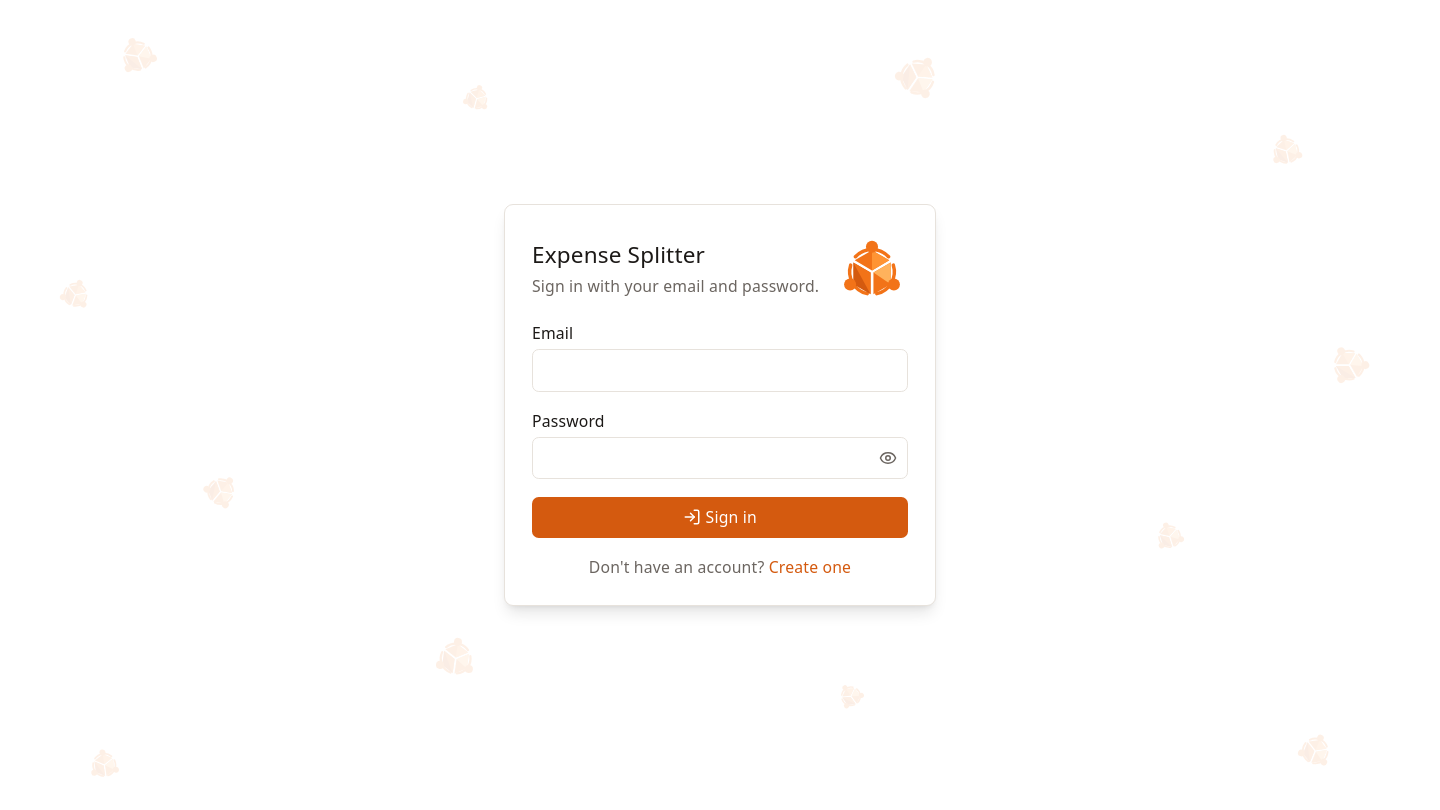
it: LoginPage › shows an error and does not log in when credentials are wrong
The width and height of the screenshot is (1440, 810).
Type "utkarsh@example.com" into the field labelled "Email" at (720, 370), box [532,349,908,392]
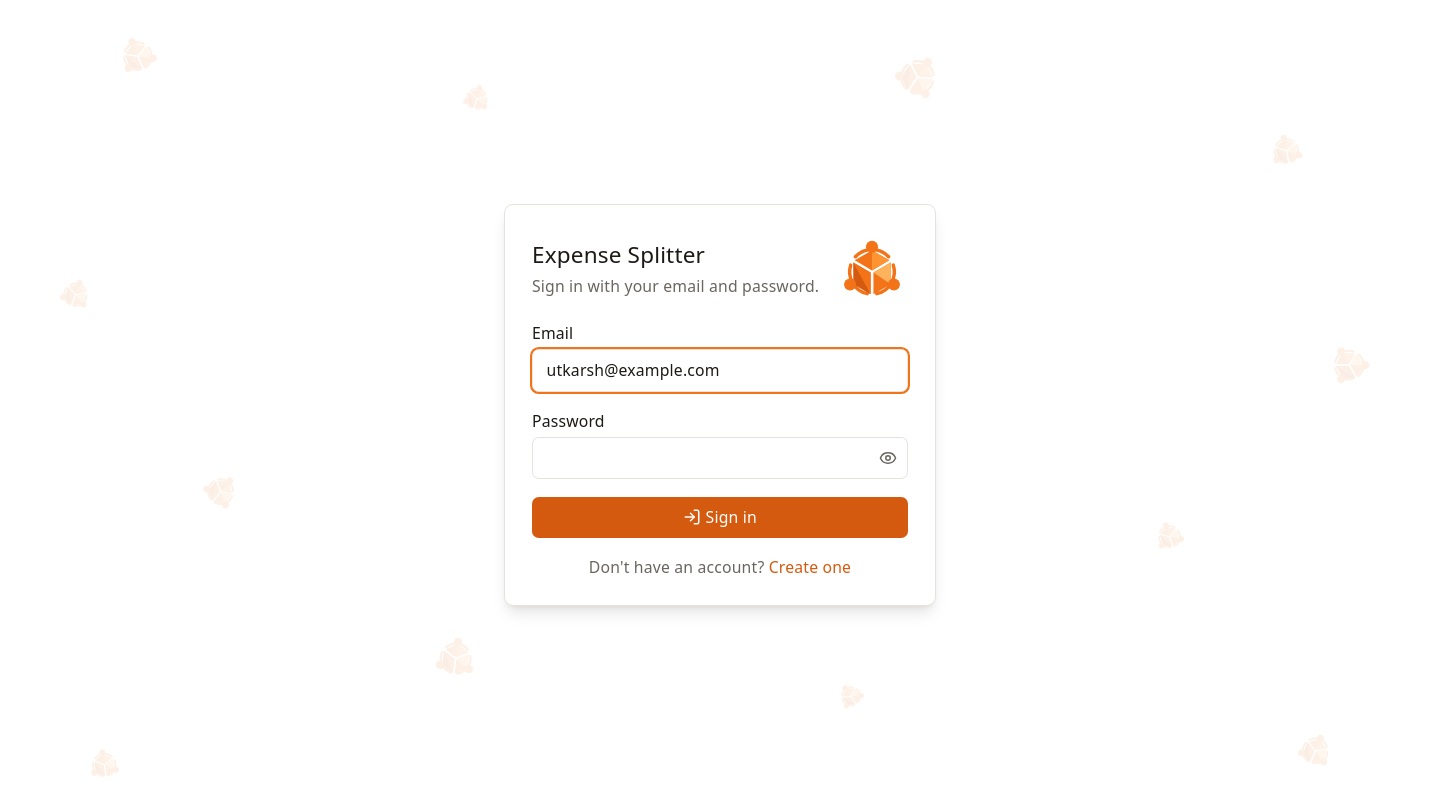
Type "wrong-password" into the password field labelled "Password" at (720, 458), box [532,436,908,479]
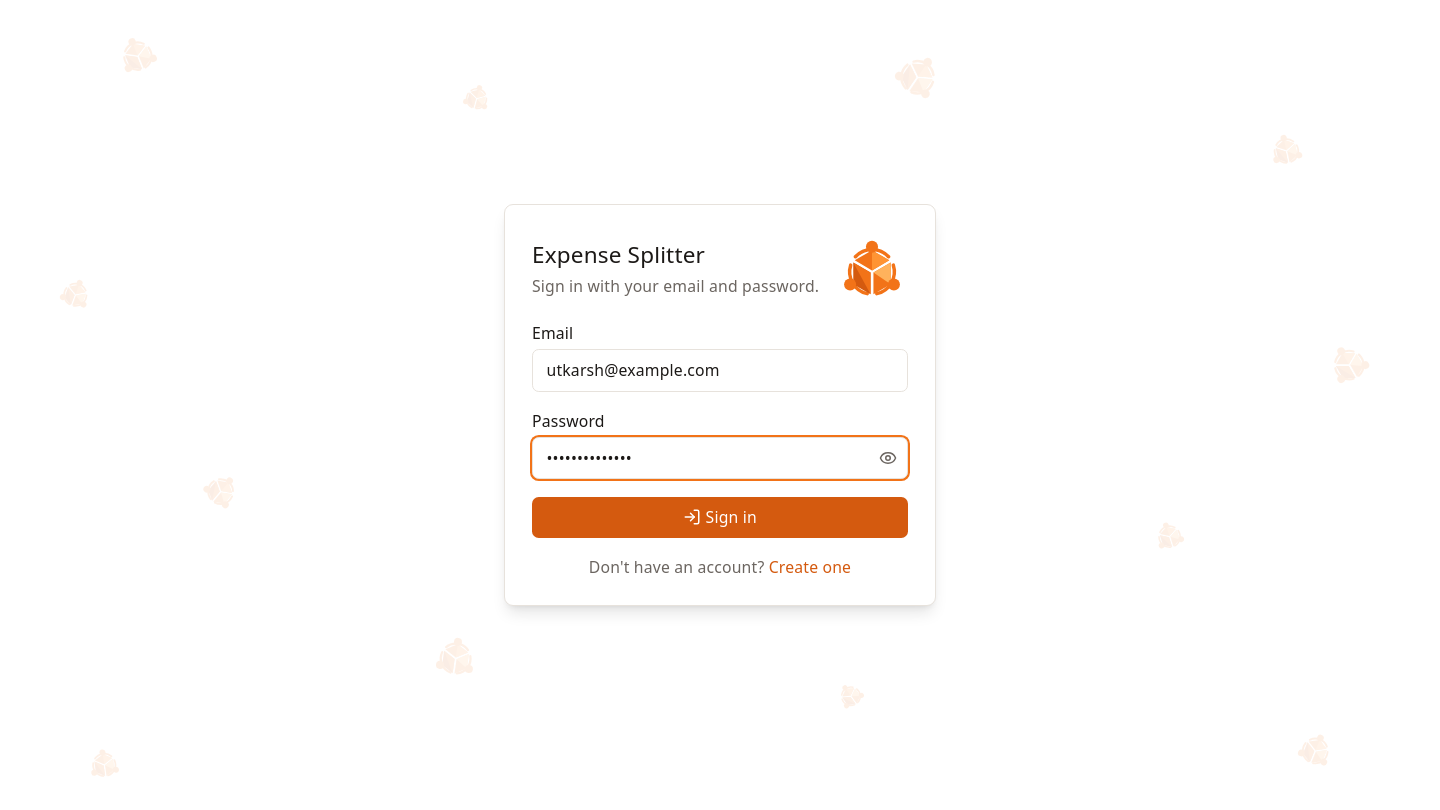
Click the button "Sign in" at (720, 517), box [532,497,908,538]
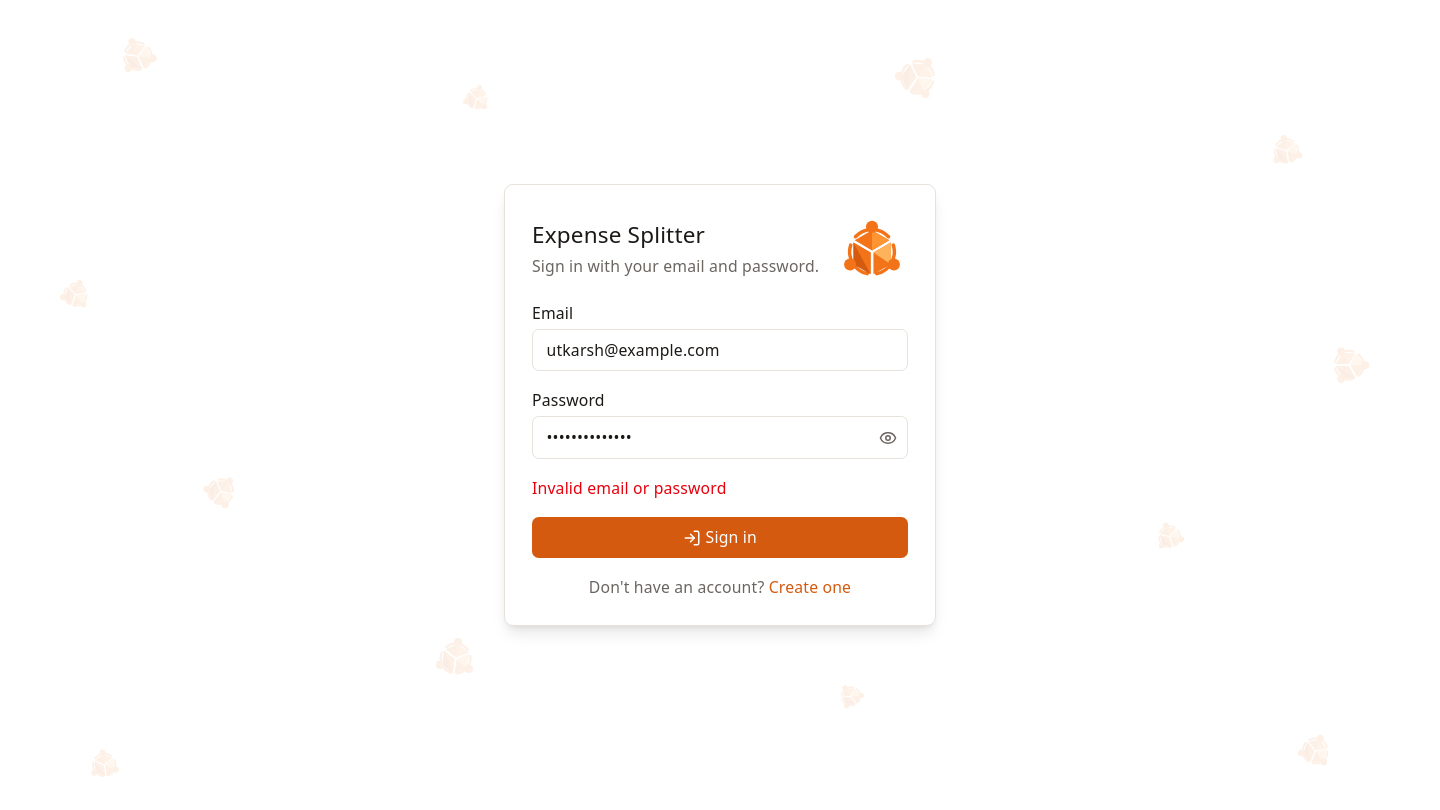
Expected: the text "Invalid email or password" is shown, [532,477,726,499]
